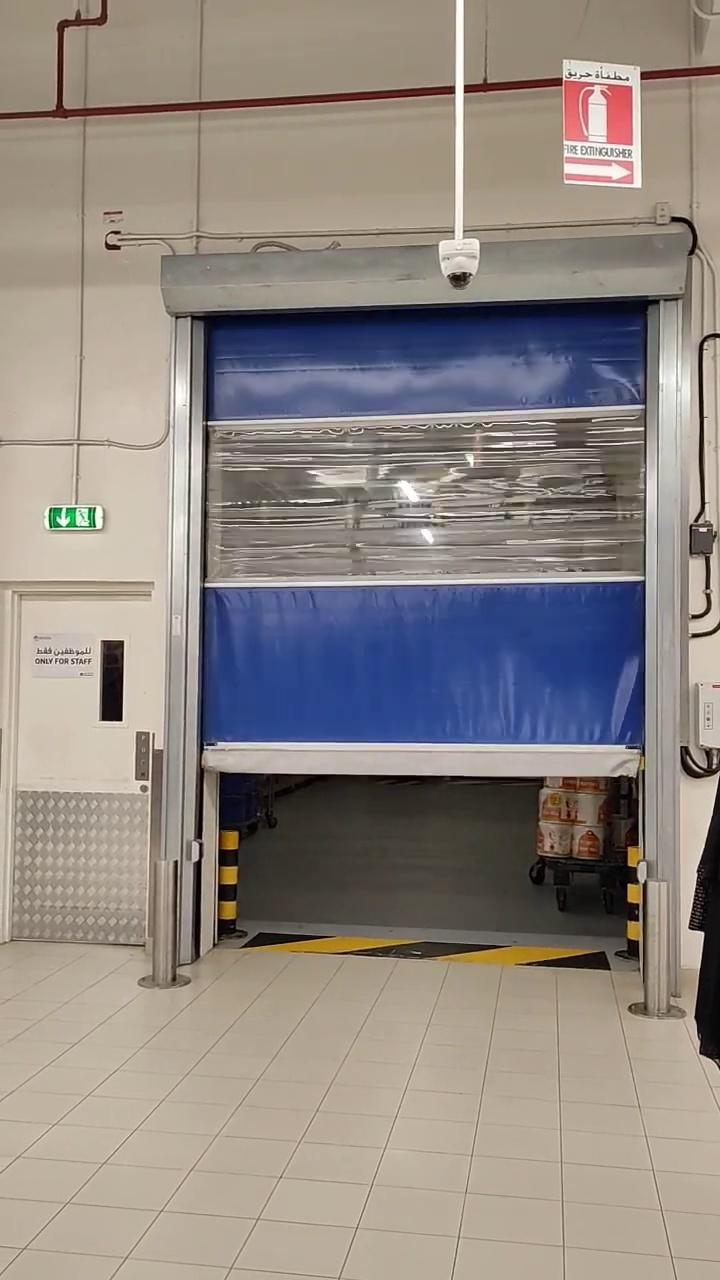Strip: (236, 918, 611, 977)
